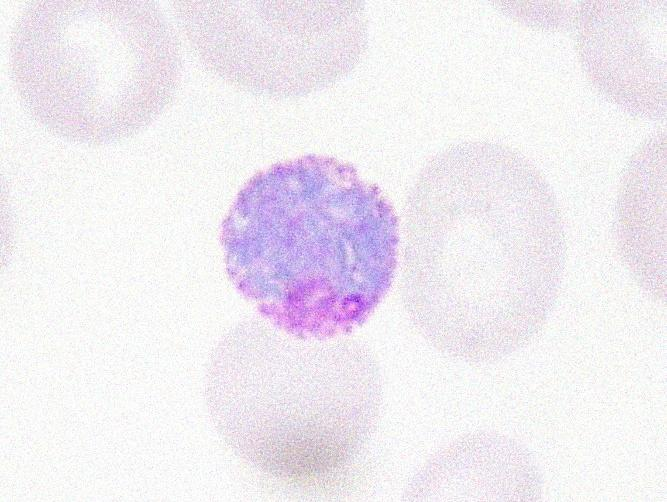Infected: (222, 158, 397, 338)
Uninfected: (392, 145, 567, 364), (212, 320, 388, 475), (9, 0, 182, 140)
